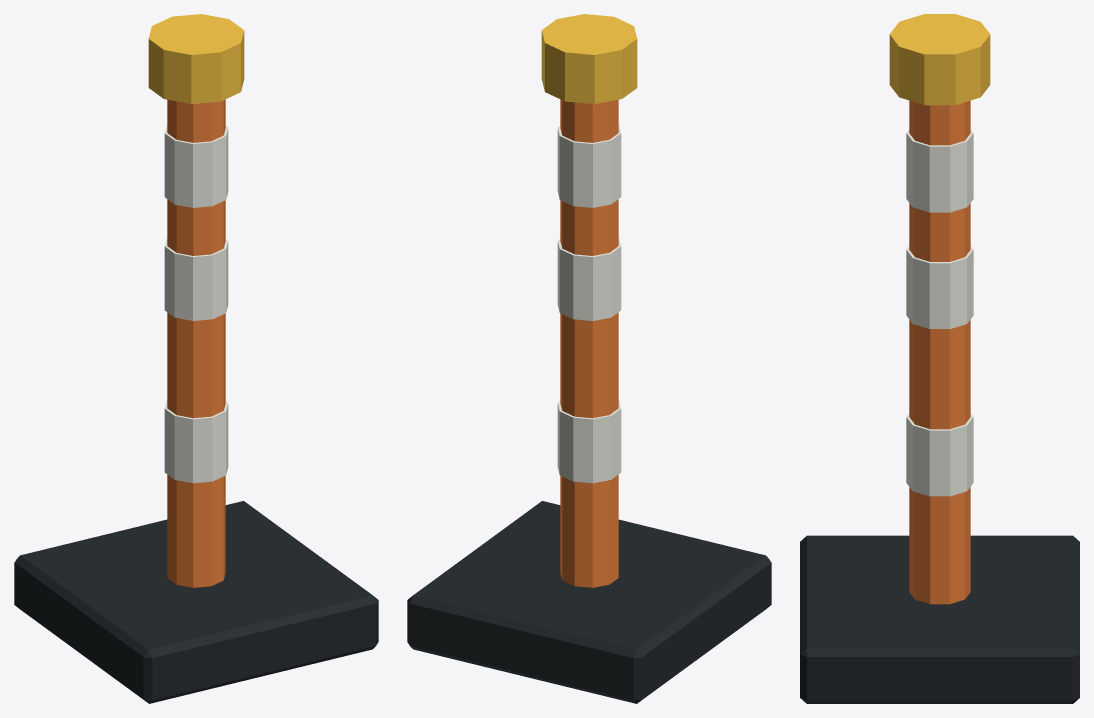
The model's file is Barrier_Post_Reflective.glb.
3 views of the same model, side by side, from view 1: azimuth 30°, elevation 25°; view 2: azimuth 150°, elevation 25°; view 3: azimuth 270°, elevation 25° (orthographic). The views are drawn at different scales.
Visible parts, largest first — view 1: Barrier_Post_Reflective; view 2: Barrier_Post_Reflective; view 3: Barrier_Post_Reflective.
Part boxes in pixels (bbox=[...]): Barrier_Post_Reflective: bbox=[14, 14, 378, 703]; Barrier_Post_Reflective: bbox=[407, 14, 771, 703]; Barrier_Post_Reflective: bbox=[800, 14, 1079, 703].
Size of the model in its own units: 0.5 by 1.21 by 0.5.
